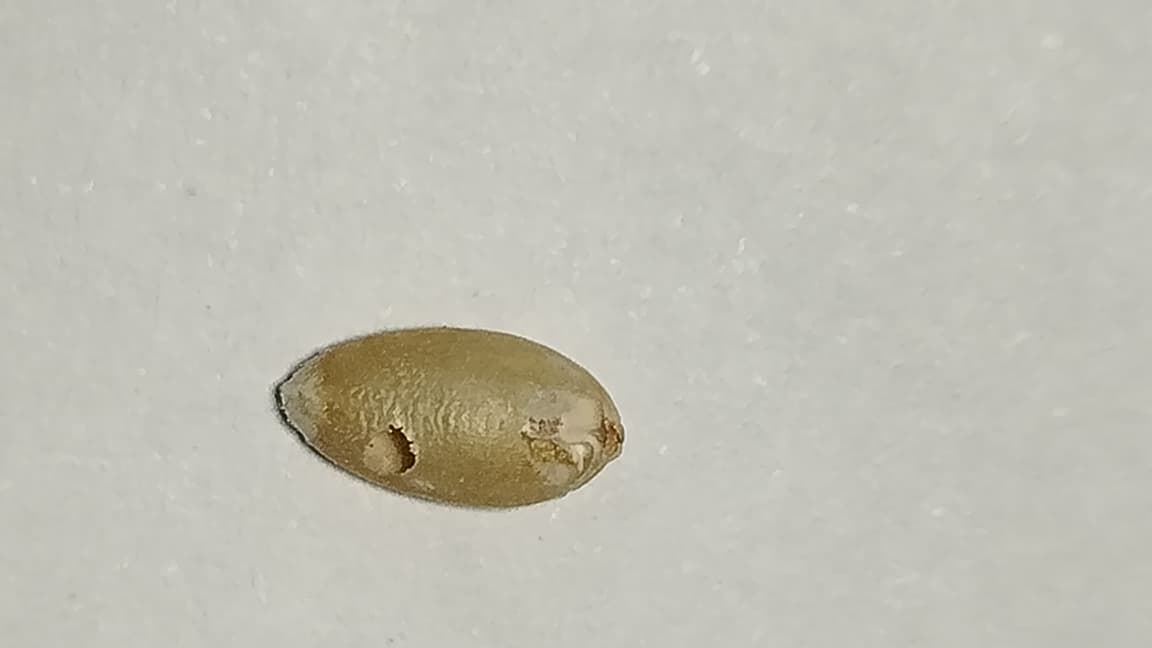damage: (277, 326, 623, 510)
insectdamage: (520, 379, 619, 491), (355, 421, 436, 481)
